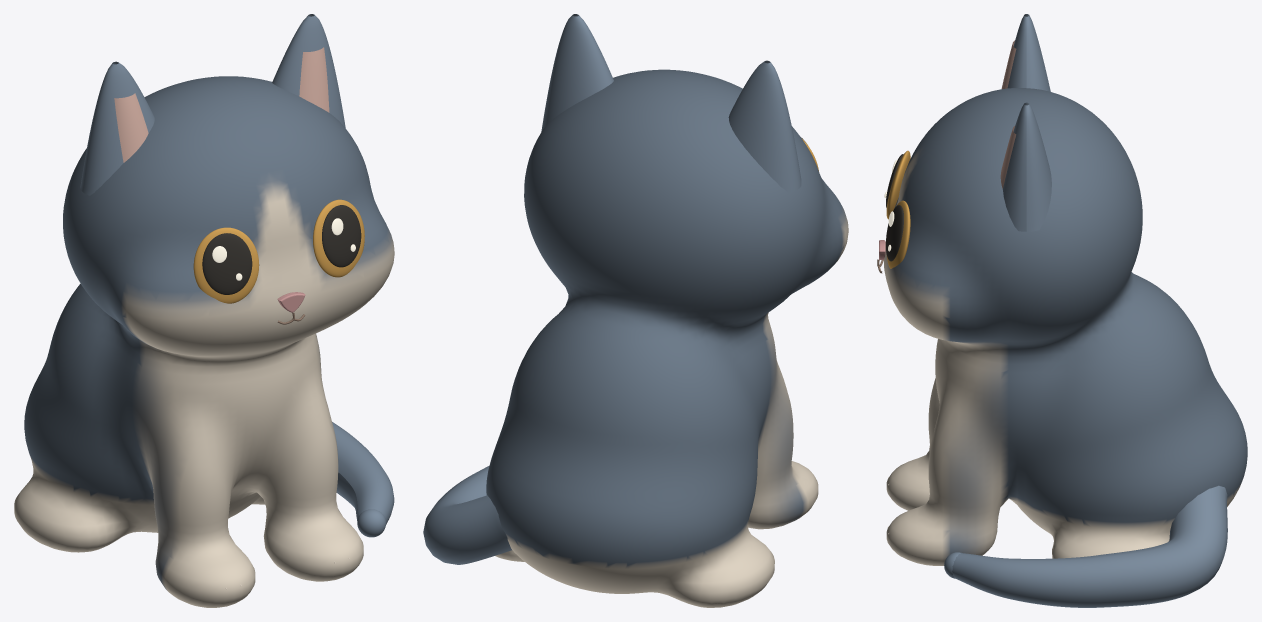
Rendered from q-blue-white.glb.
3 views of the same model, side by side, from view 1: azimuth 30°, elevation 25°; view 2: azimuth 150°, elevation 25°; view 3: azimuth 270°, elevation 25° (orthographic). The views are drawn at different scales.
Visible parts, largest first — view 1: British shorthair continuous body, Q blue white review, cat-eye-left, cat-tail, cat-eye-right, cat-tail-tip; view 2: British shorthair continuous body, Q blue white review, cat-tail; view 3: British shorthair continuous body, cat-tail, Q blue white review, cat-eye-right, cat-eye-left.
Part boxes in pixels (x1,y1,x2,y2): British shorthair continuous body: (14, 76, 394, 607); Q blue white review: (80, 14, 349, 589); cat-eye-left: (193, 227, 259, 303); cat-tail: (332, 422, 394, 524); cat-eye-right: (313, 199, 364, 277); cat-tail-tip: (357, 509, 385, 537); British shorthair continuous body: (486, 69, 848, 607); Q blue white review: (541, 14, 801, 192); cat-tail: (423, 465, 511, 564); British shorthair continuous body: (884, 88, 1247, 565); cat-tail: (952, 485, 1227, 607); Q blue white review: (877, 14, 1051, 534); cat-eye-right: (886, 200, 910, 268); cat-eye-left: (884, 150, 910, 219).
Bounding box in the file's own units: 0.7783 × 1.18 × 0.8296.
